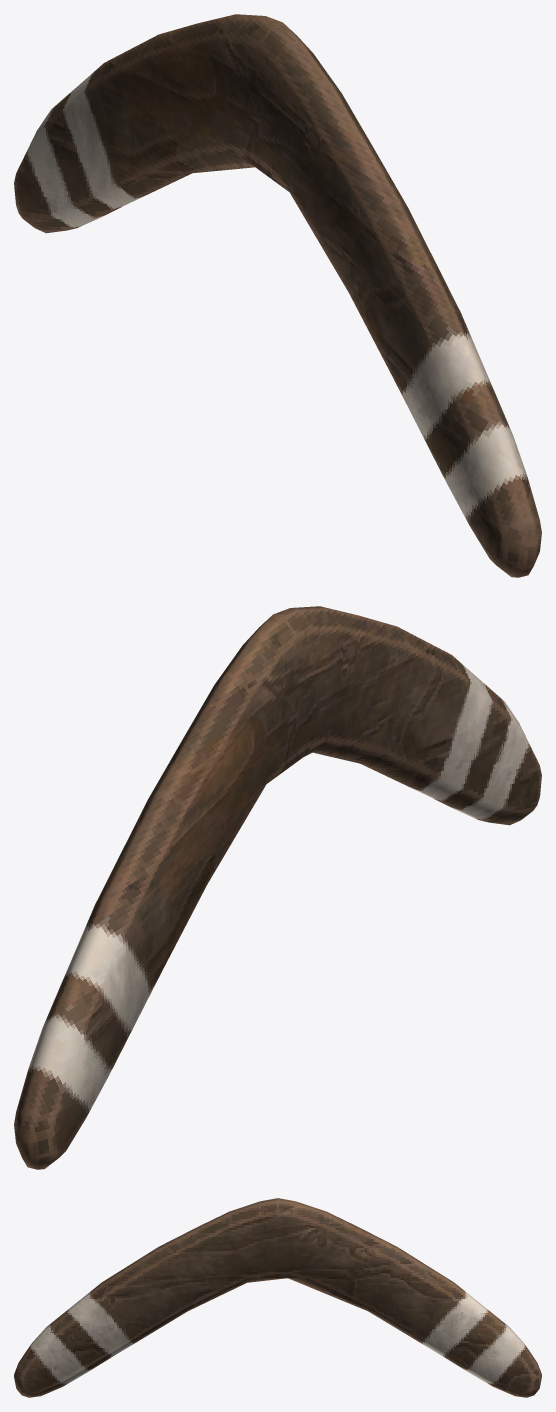
Rendered from item_boomerang.glb.
The picture shows the model from 3 angles, top to bottom: view 1: azimuth 30°, elevation 25°; view 2: azimuth 150°, elevation 25°; view 3: azimuth 270°, elevation 25°; orthographic projection. The views are drawn at different scales.
Visible parts, largest first — view 1: Boomerang; view 2: Boomerang; view 3: Boomerang.
Part boxes in pixels (x1,y1,x2,y2): Boomerang: (14, 14, 541, 577); Boomerang: (14, 606, 541, 1169); Boomerang: (14, 1198, 541, 1397).
Bounding box in the file's own units: 0.0162 × 0.1546 × 0.3752.
Materials: 1 (1 with a texture image).
